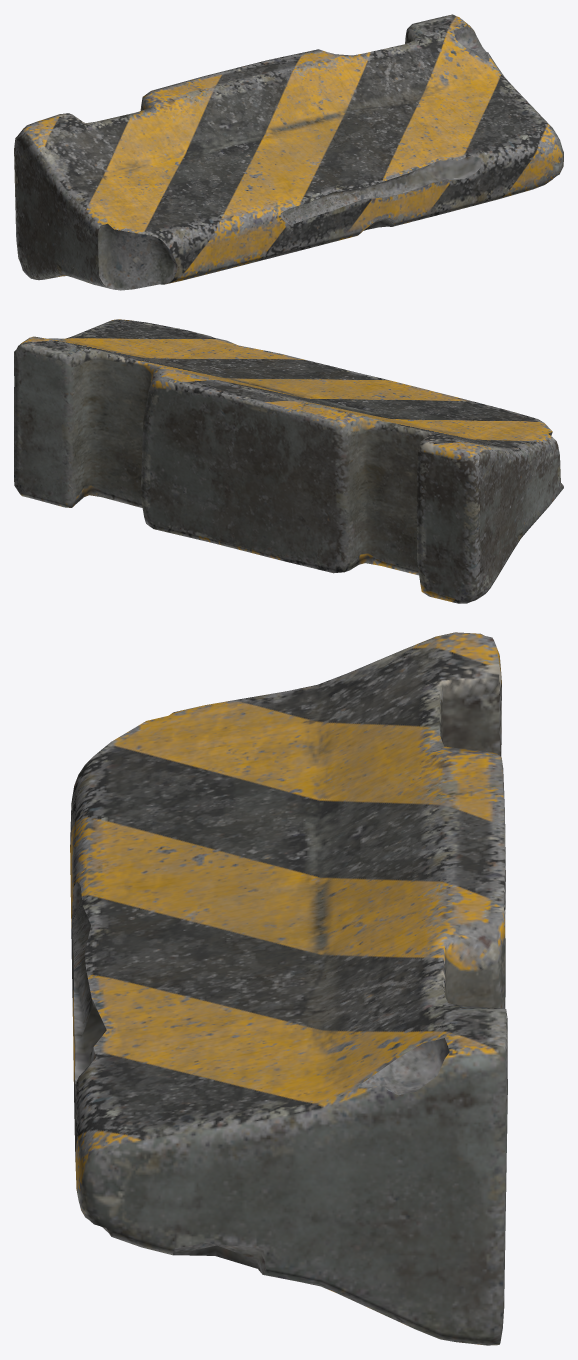
The model's file is ObstacleB.obj.
3 renders of one model, top to bottom at view 1: azimuth 30°, elevation 25°; view 2: azimuth 150°, elevation 25°; view 3: azimuth 270°, elevation 25°, orthographic. The views are drawn at different scales.
Visible parts, largest first — view 1: concrete_barriers_barrier_yellow_weathered_concrete_barriers_0; view 2: concrete_barriers_barrier_yellow_weathered_concrete_barriers_0; view 3: concrete_barriers_barrier_yellow_weathered_concrete_barriers_0.
Boxes of the visible parts, x1=… form: concrete_barriers_barrier_yellow_weathered_concrete_barriers_0: x1=14, y1=14, x2=563, y2=290; concrete_barriers_barrier_yellow_weathered_concrete_barriers_0: x1=14, y1=319, x2=563, y2=603; concrete_barriers_barrier_yellow_weathered_concrete_barriers_0: x1=70, y1=632, x2=507, y2=1345.
Bounding box in the file's own units: 2 × 0.6443 × 0.8445.
1 material, 1 textured.
